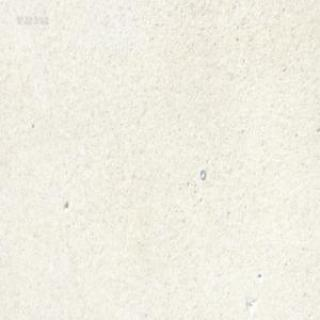Washertrack_idkeyframe: (198, 168, 205, 180)
